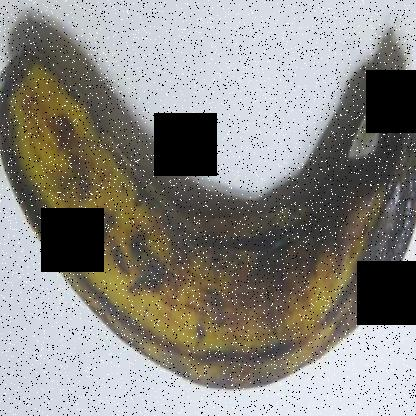overripe: (1, 41, 415, 397)
rotten: (298, 69, 415, 296)
